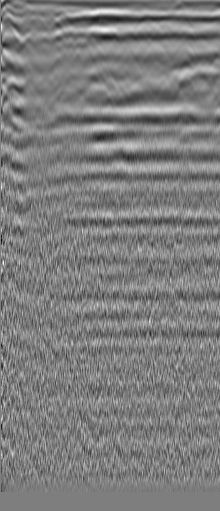오수: (20, 32, 40, 52)
우수: (176, 38, 196, 58)
